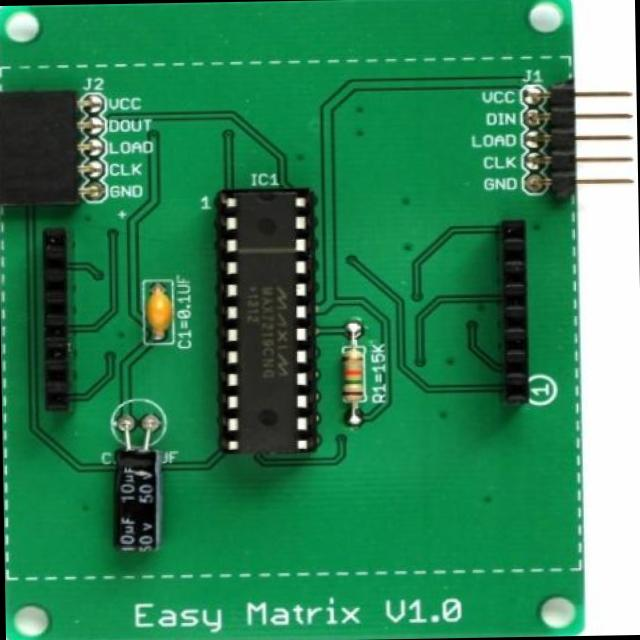IC: (219, 188, 312, 457)
capacitor: (112, 423, 163, 553), (143, 283, 175, 347)
connector: (0, 87, 107, 202), (526, 82, 632, 190), (41, 233, 71, 408), (502, 223, 530, 402)
resistor: (341, 330, 369, 424)
